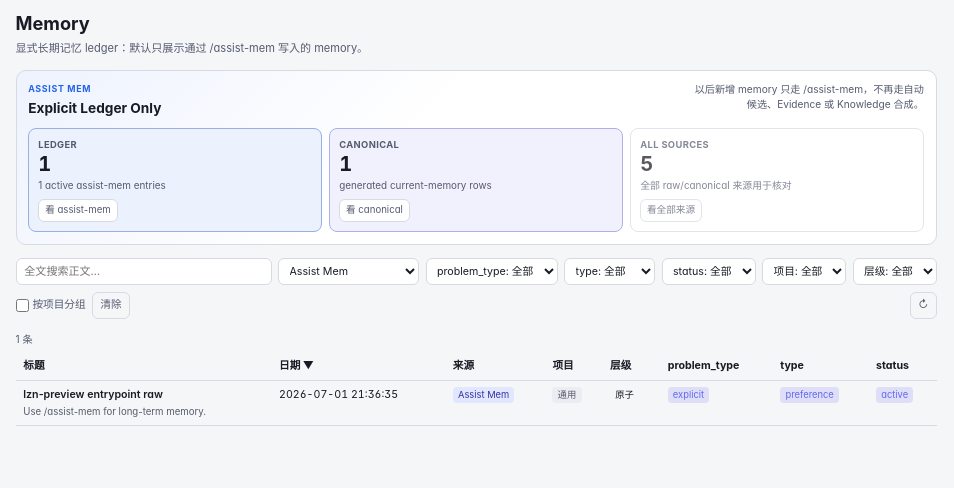
Test: MemoryPage › keeps raw source views reachable for covered assist, security, and environment facts
Select "跨 agent" in the dropdown named "source 过滤" at (348, 272), box [278,258,419,285]
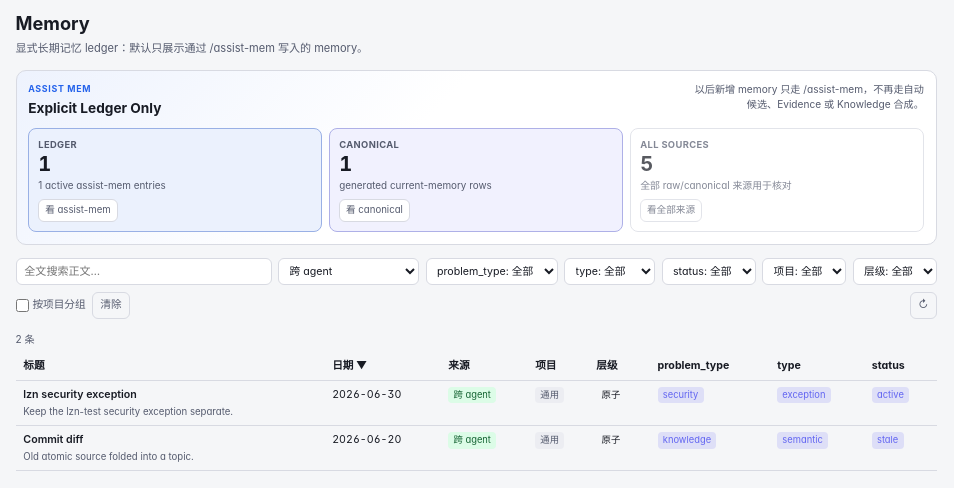
Result: the text "Keep the lzn-test security exception separate." is shown at [23,406,233,417]
Select "CC 原生" in the dropdown named "source 过滤" at (348, 272), box [278,258,419,285]
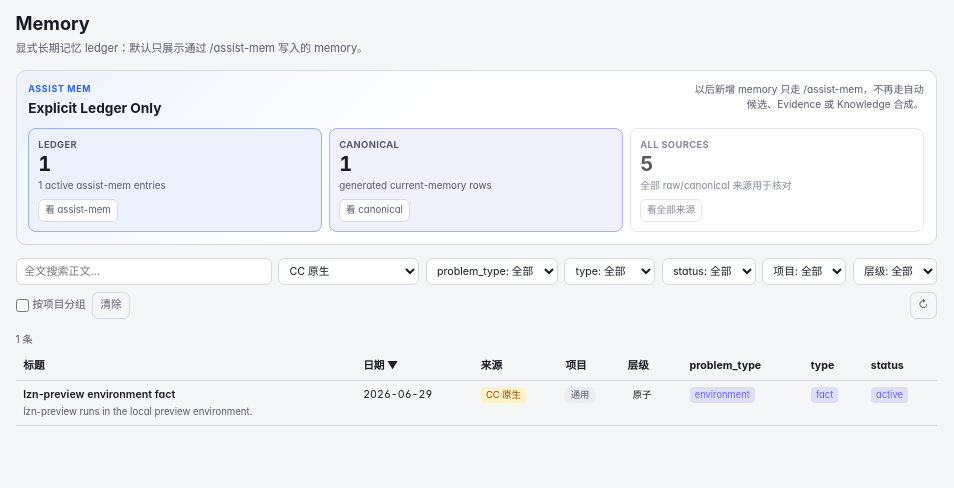
Result: the text "local preview environment" is shown at [23,406,252,417]
Select "Assist Mem" in the dropdown named "source 过滤" at (348, 272), box [278,258,419,285]
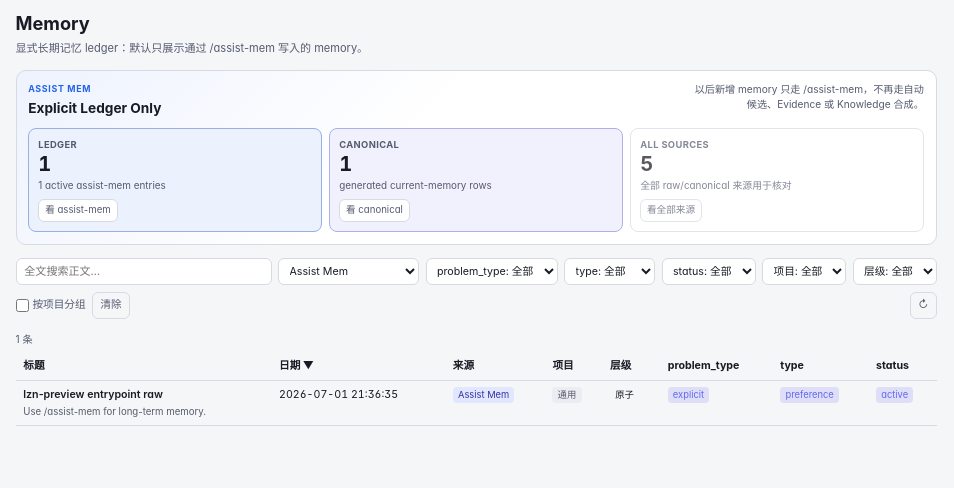
Result: the text "Use /assist-mem for long-term memory." is shown at [23,406,206,417]
